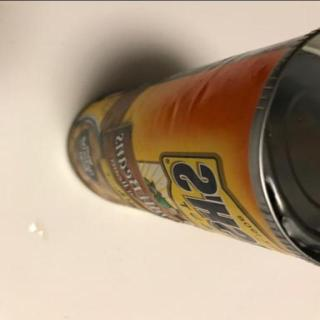Anorganik: (65, 36, 319, 268)
